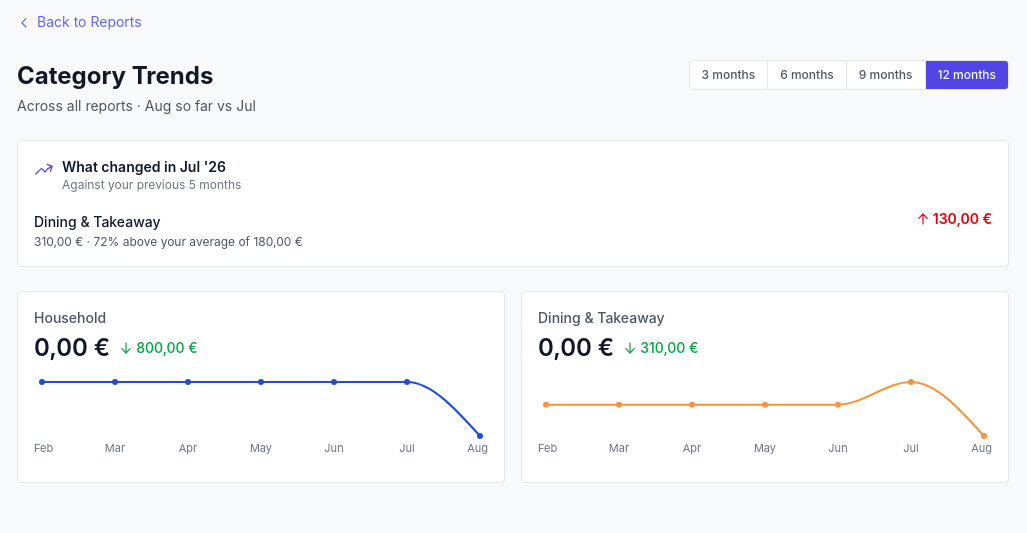
Scenario: CategoryTrends › hides the highlights while a single category is open
Click the button "Dining & Takeaway 0,00 € 310,00 €" at coordinates (765, 387), box x1=521 y1=291 x2=1009 y2=483
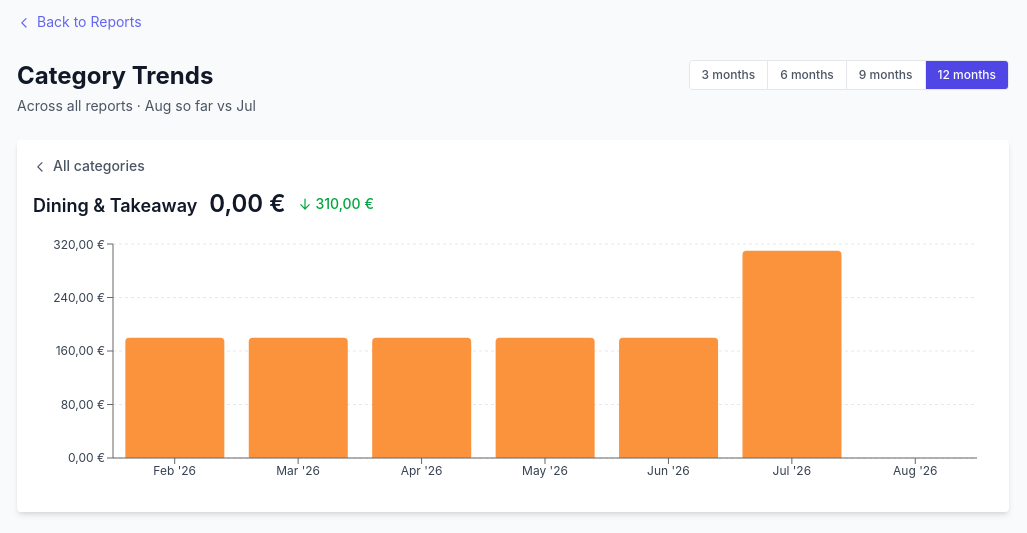
Result: the heading "What changed in" is gone
